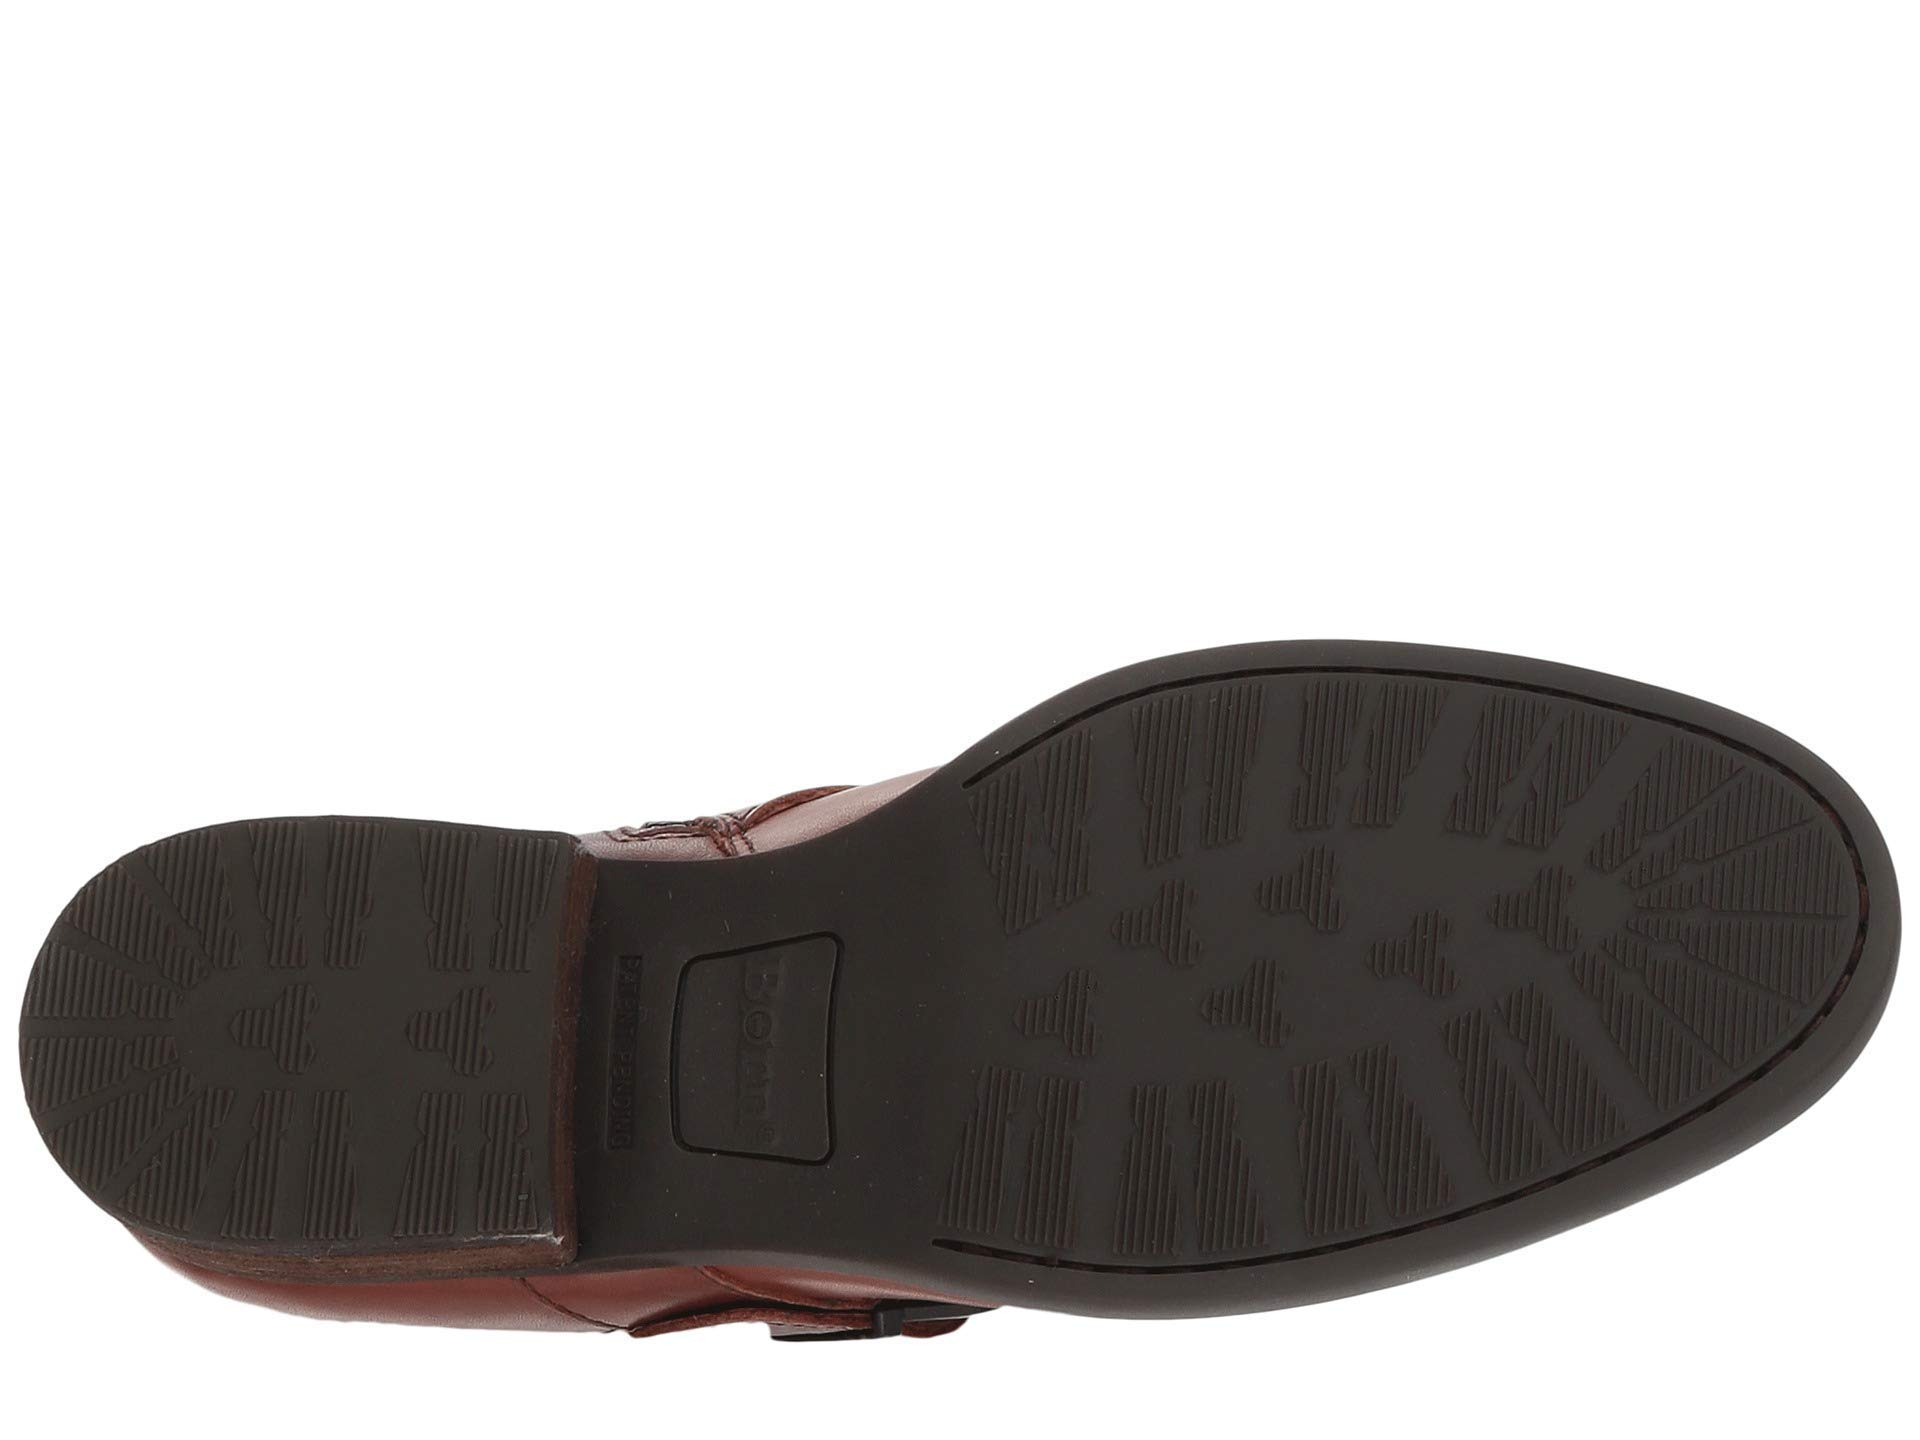bowtie: (1599, 743, 1863, 1041), (949, 1035, 1262, 1275), (230, 815, 395, 988), (243, 1075, 384, 1265)
line: (1599, 743, 1863, 1041), (949, 1035, 1262, 1275), (1243, 815, 1485, 1019), (230, 815, 395, 988), (243, 1075, 384, 1265)
star: (1243, 815, 1485, 1019)
